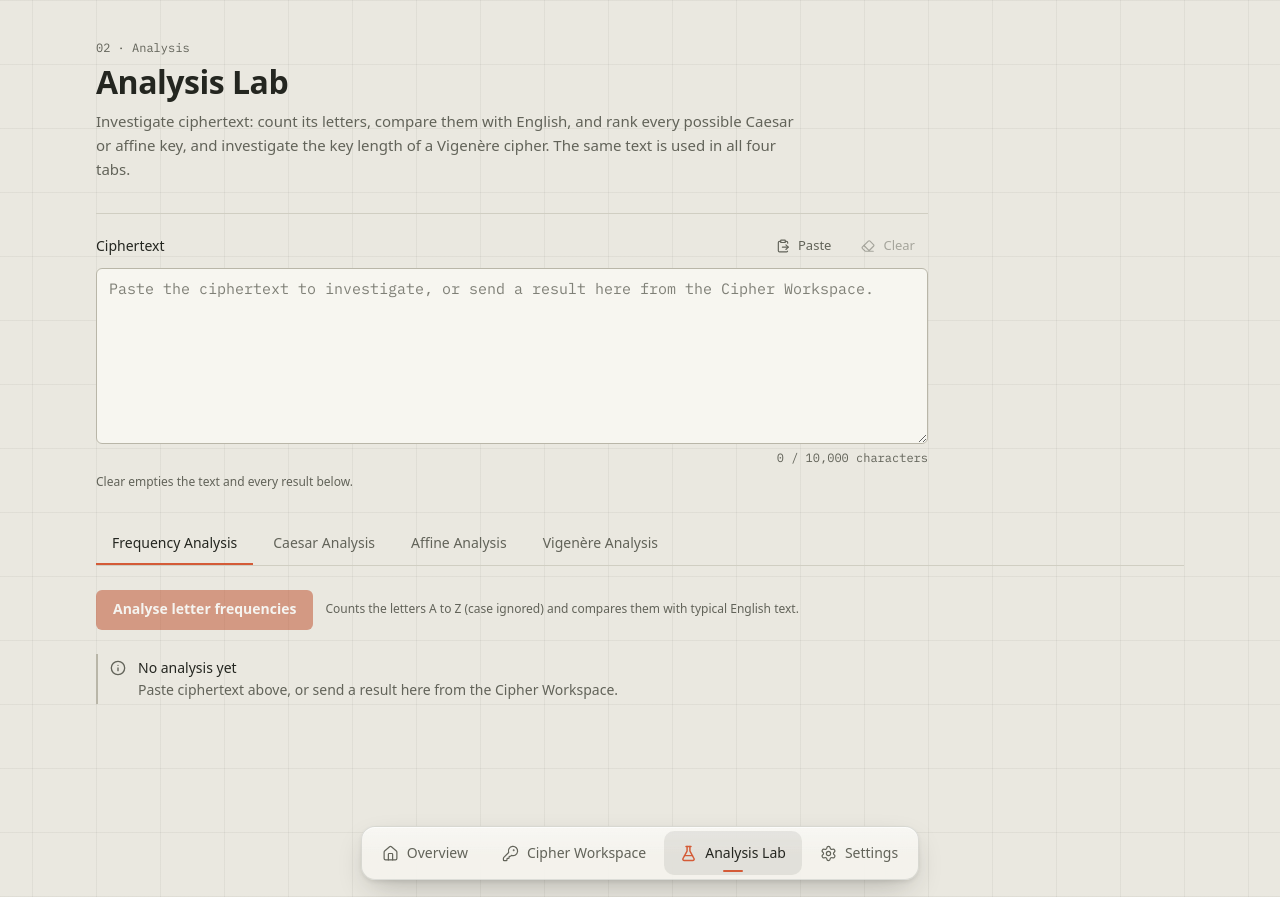
Test: frequency analysis › changes the numbers when the text changes
Clear the text box labelled "Ciphertext" at (512, 356), box [96,268,928,444]
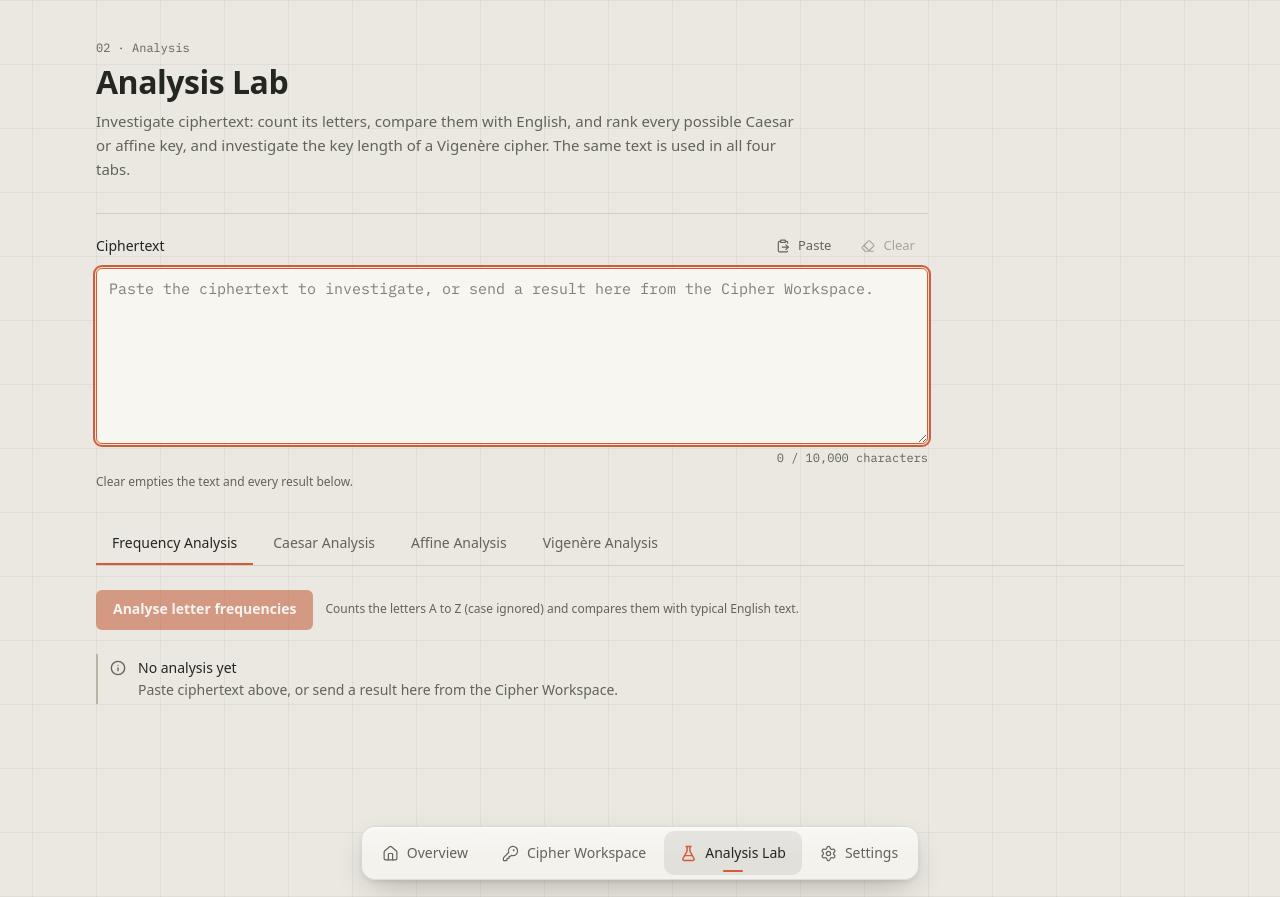
Type keys "aaaa"
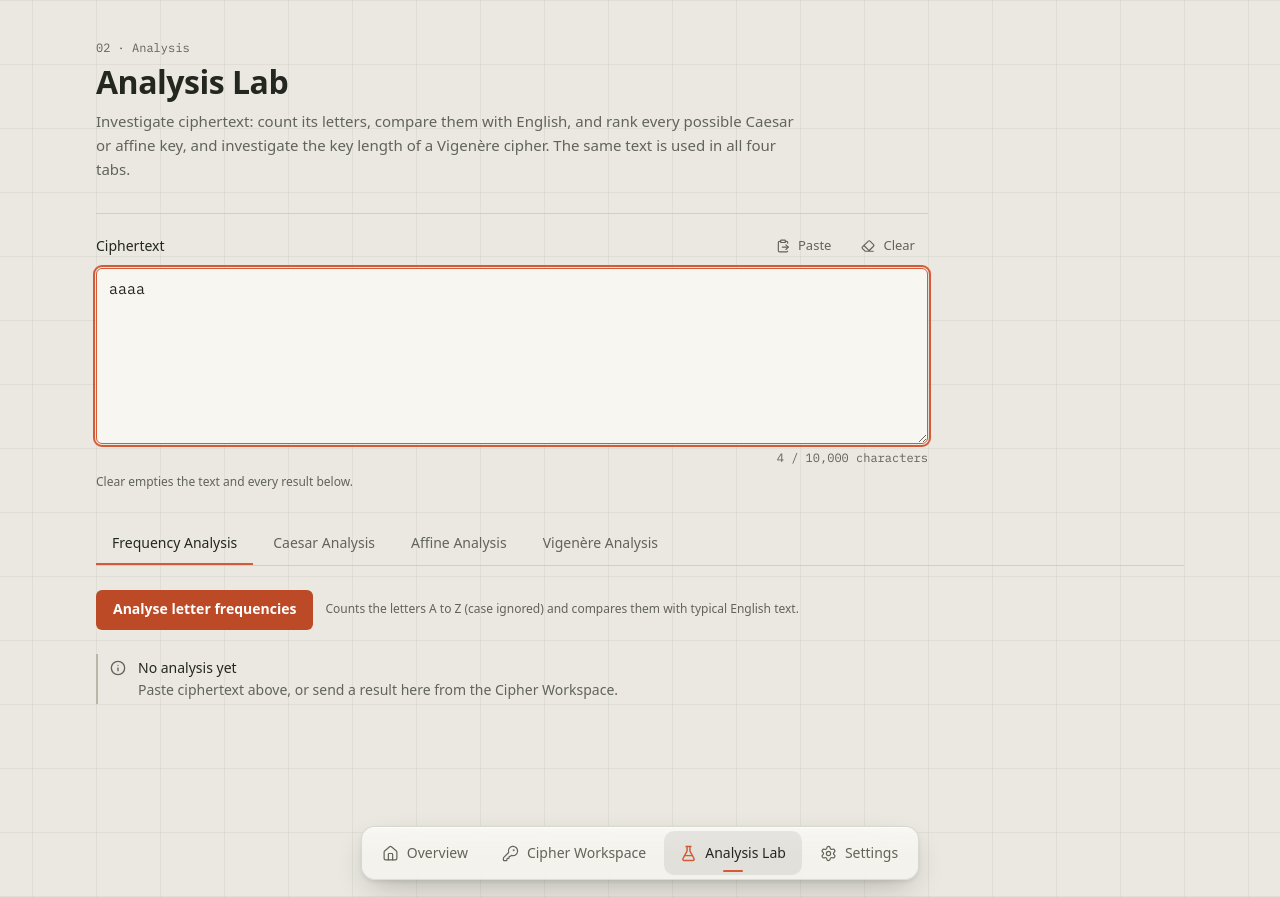
Click the button "Analyse letter frequencies" at (205, 610), box [96,590,313,630]
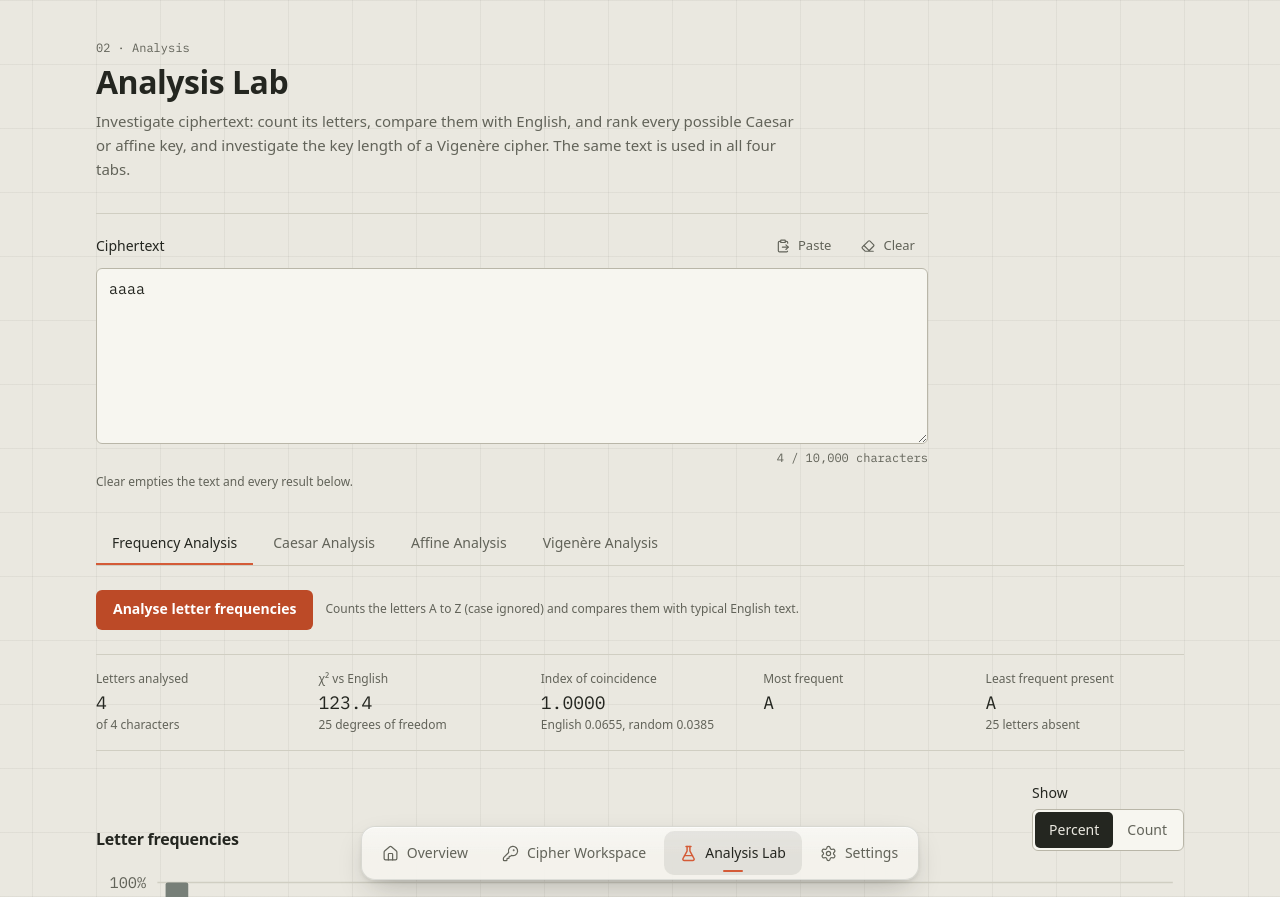
Clear the text box labelled "Ciphertext" at (512, 356), box [96,268,928,444]
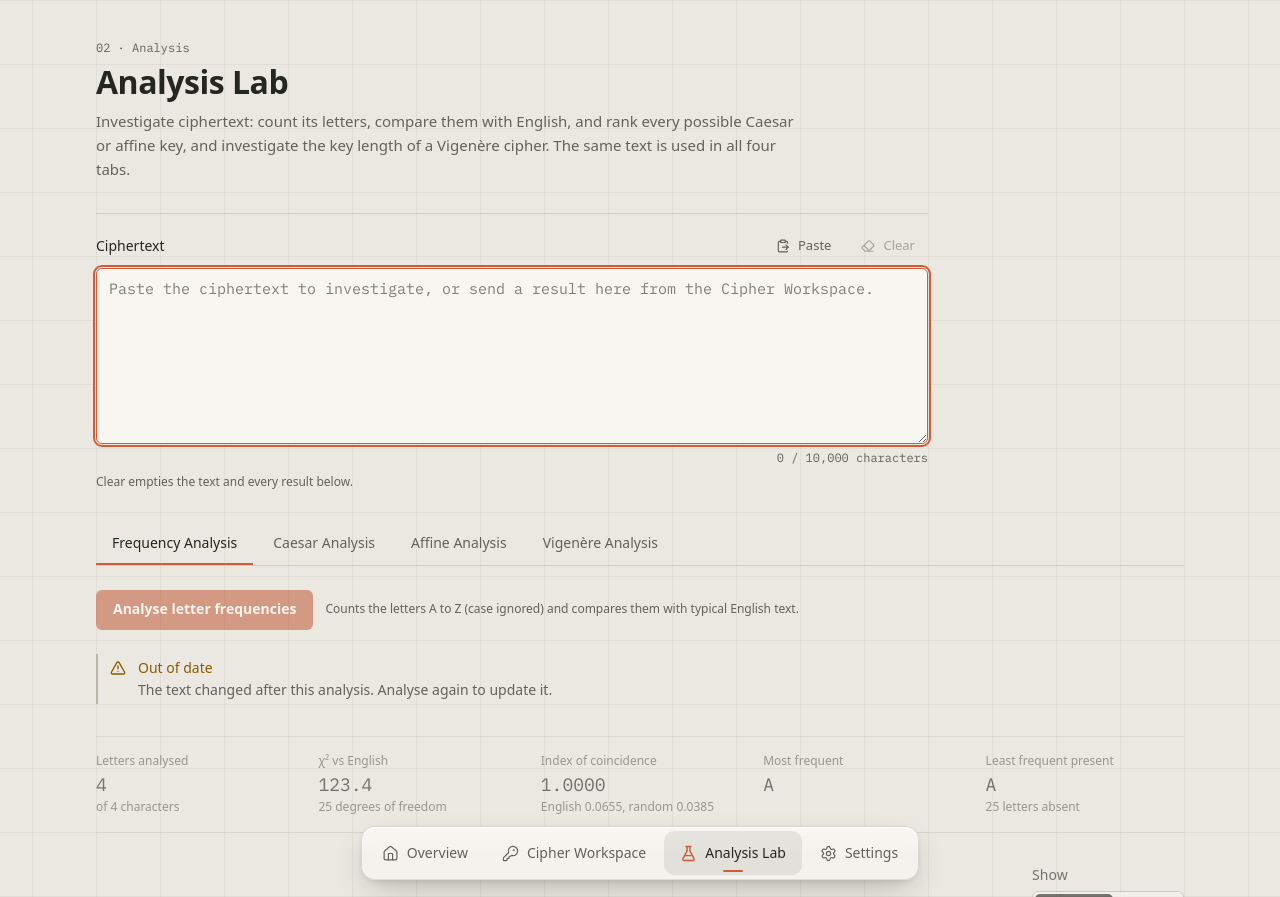
Type keys "zzzz"
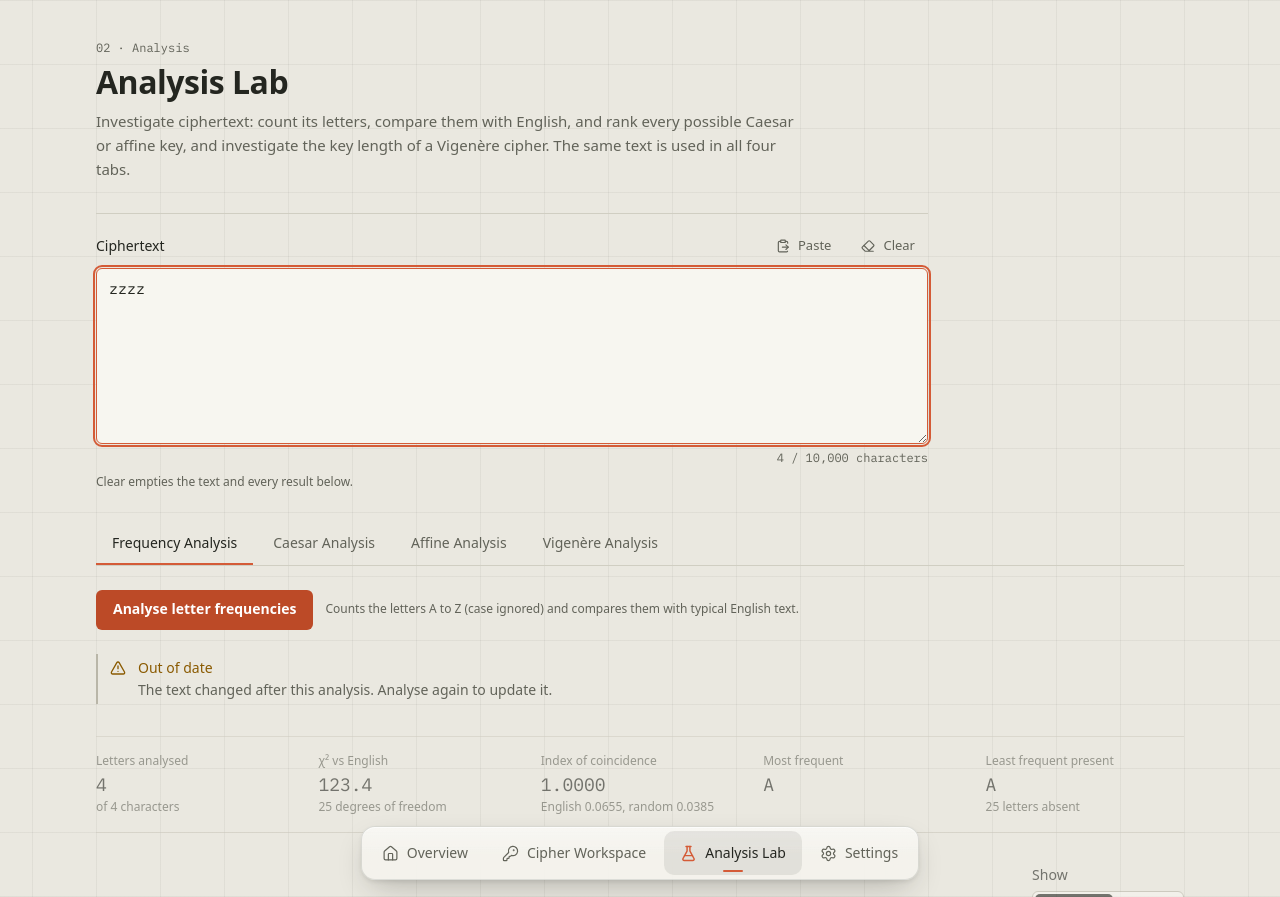
Click the button "Analyse letter frequencies" at (205, 610), box [96,590,313,630]
(page scrolled)
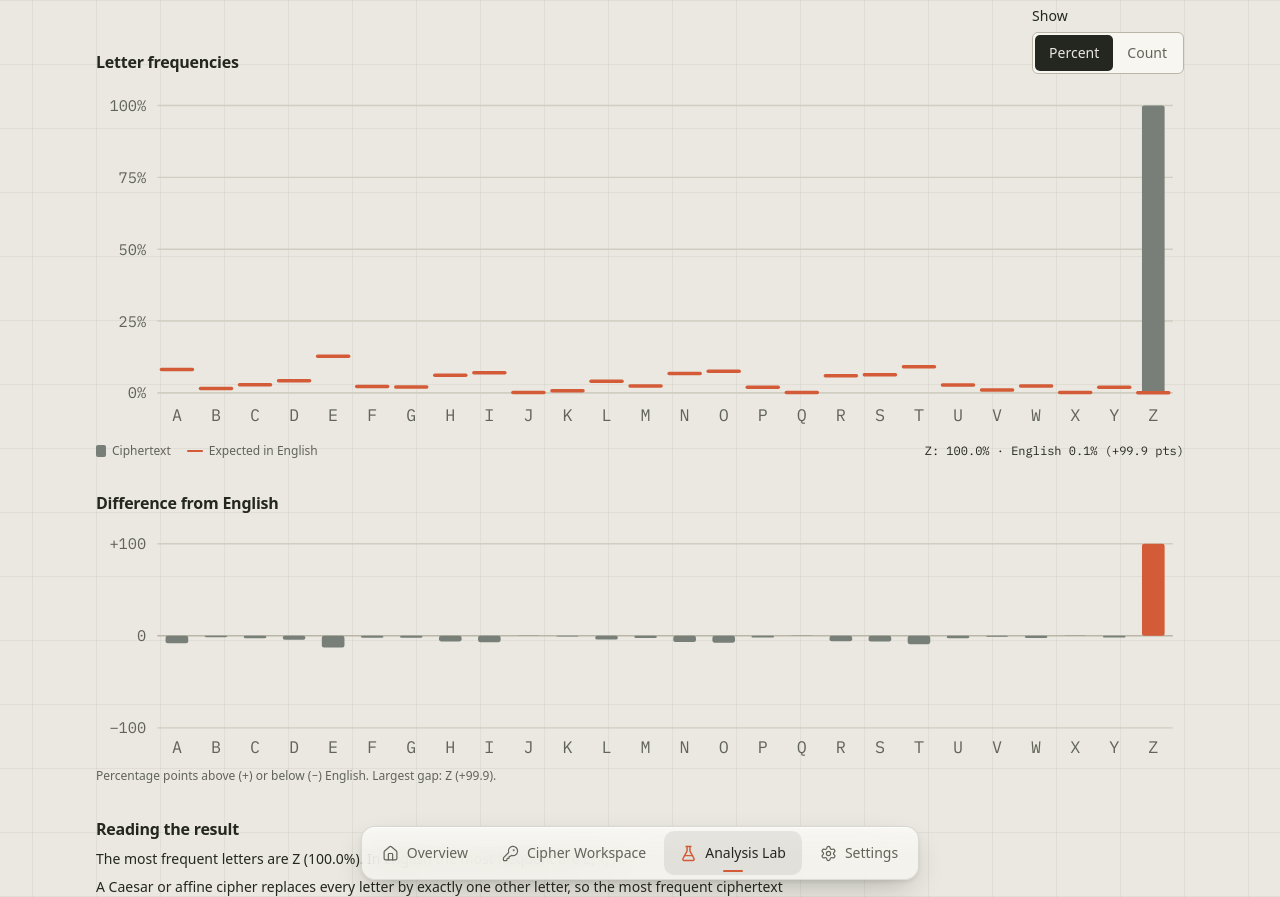
Now the text with test id "chart-readout" shows "Z: 100.0%", box [925,443,1184,459]
